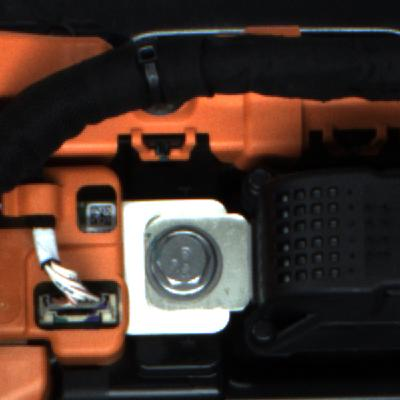nut_b: (141, 224, 230, 302)
